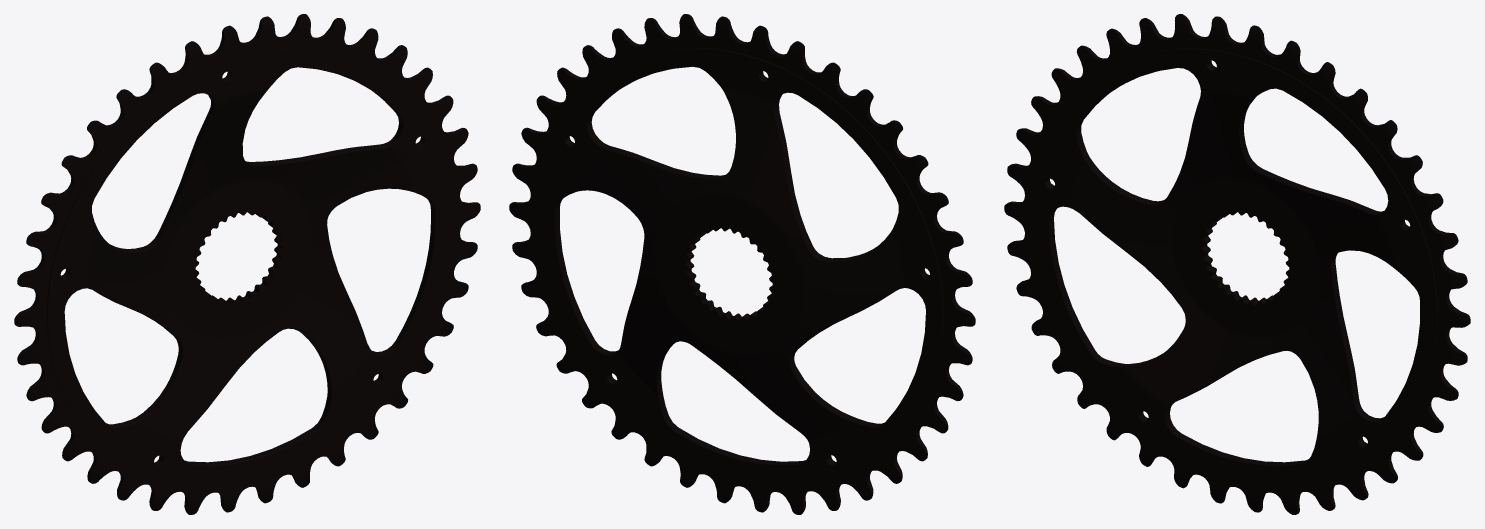
Rendered from GCW-BS-1.gltf.
3 views of the same model, side by side, from view 1: azimuth 30°, elevation 25°; view 2: azimuth 150°, elevation 25°; view 3: azimuth 330°, elevation 25° (orthographic).
Visible parts, largest first — view 1: Solid1; view 2: Solid1; view 3: Solid1.
Boxes of the visible parts, x1,y1,x2,y2 form: Solid1: (14, 14, 480, 514); Solid1: (509, 14, 975, 514); Solid1: (1004, 14, 1470, 514).
Bounding box in the file's own units: 16.1 × 16.06 × 0.95.
Materials: 1 (1 with a texture image).
